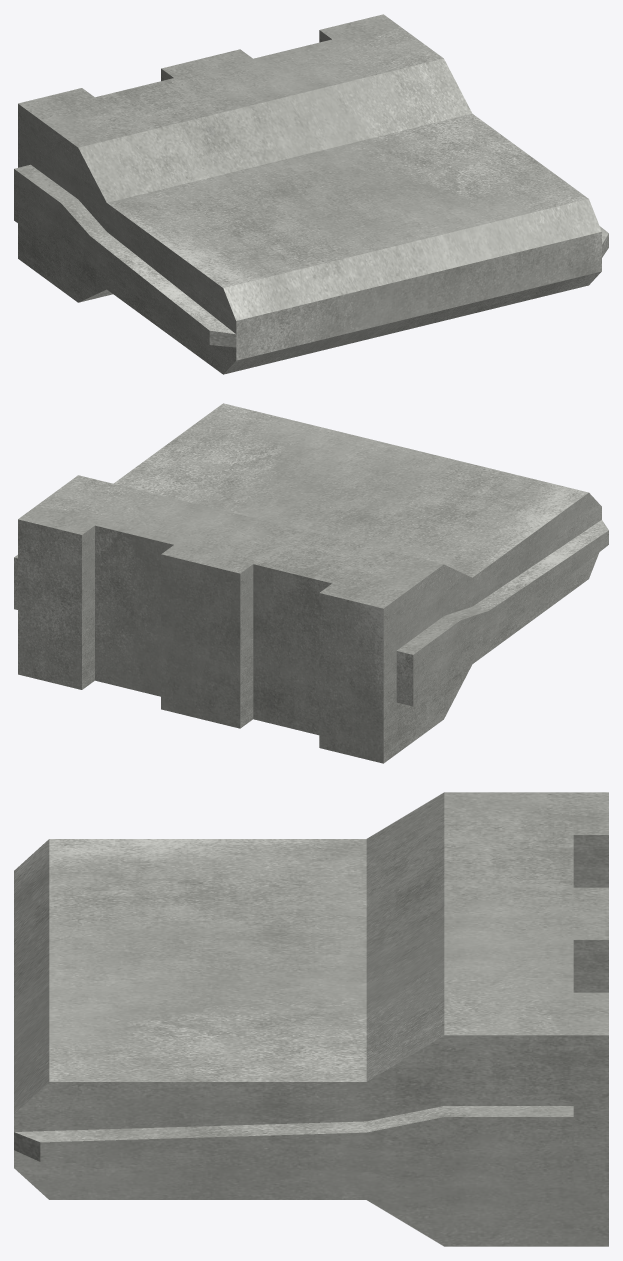
Rendered from barrier_asia.obj.
3 views of the same model, one above another, from view 1: azimuth 30°, elevation 25°; view 2: azimuth 150°, elevation 25°; view 3: azimuth 270°, elevation 25° (orthographic). The views are drawn at different scales.
Visible parts, largest first — view 1: Box001; view 2: Box001; view 3: Box001.
Part boxes in pixels (x1=…): Box001: x1=14, y1=14, x2=608, y2=374; Box001: x1=14, y1=403, x2=608, y2=763; Box001: x1=14, y1=792, x2=608, y2=1246.
Size of the model in its own units: 35.64 by 13.23 by 33.75.
